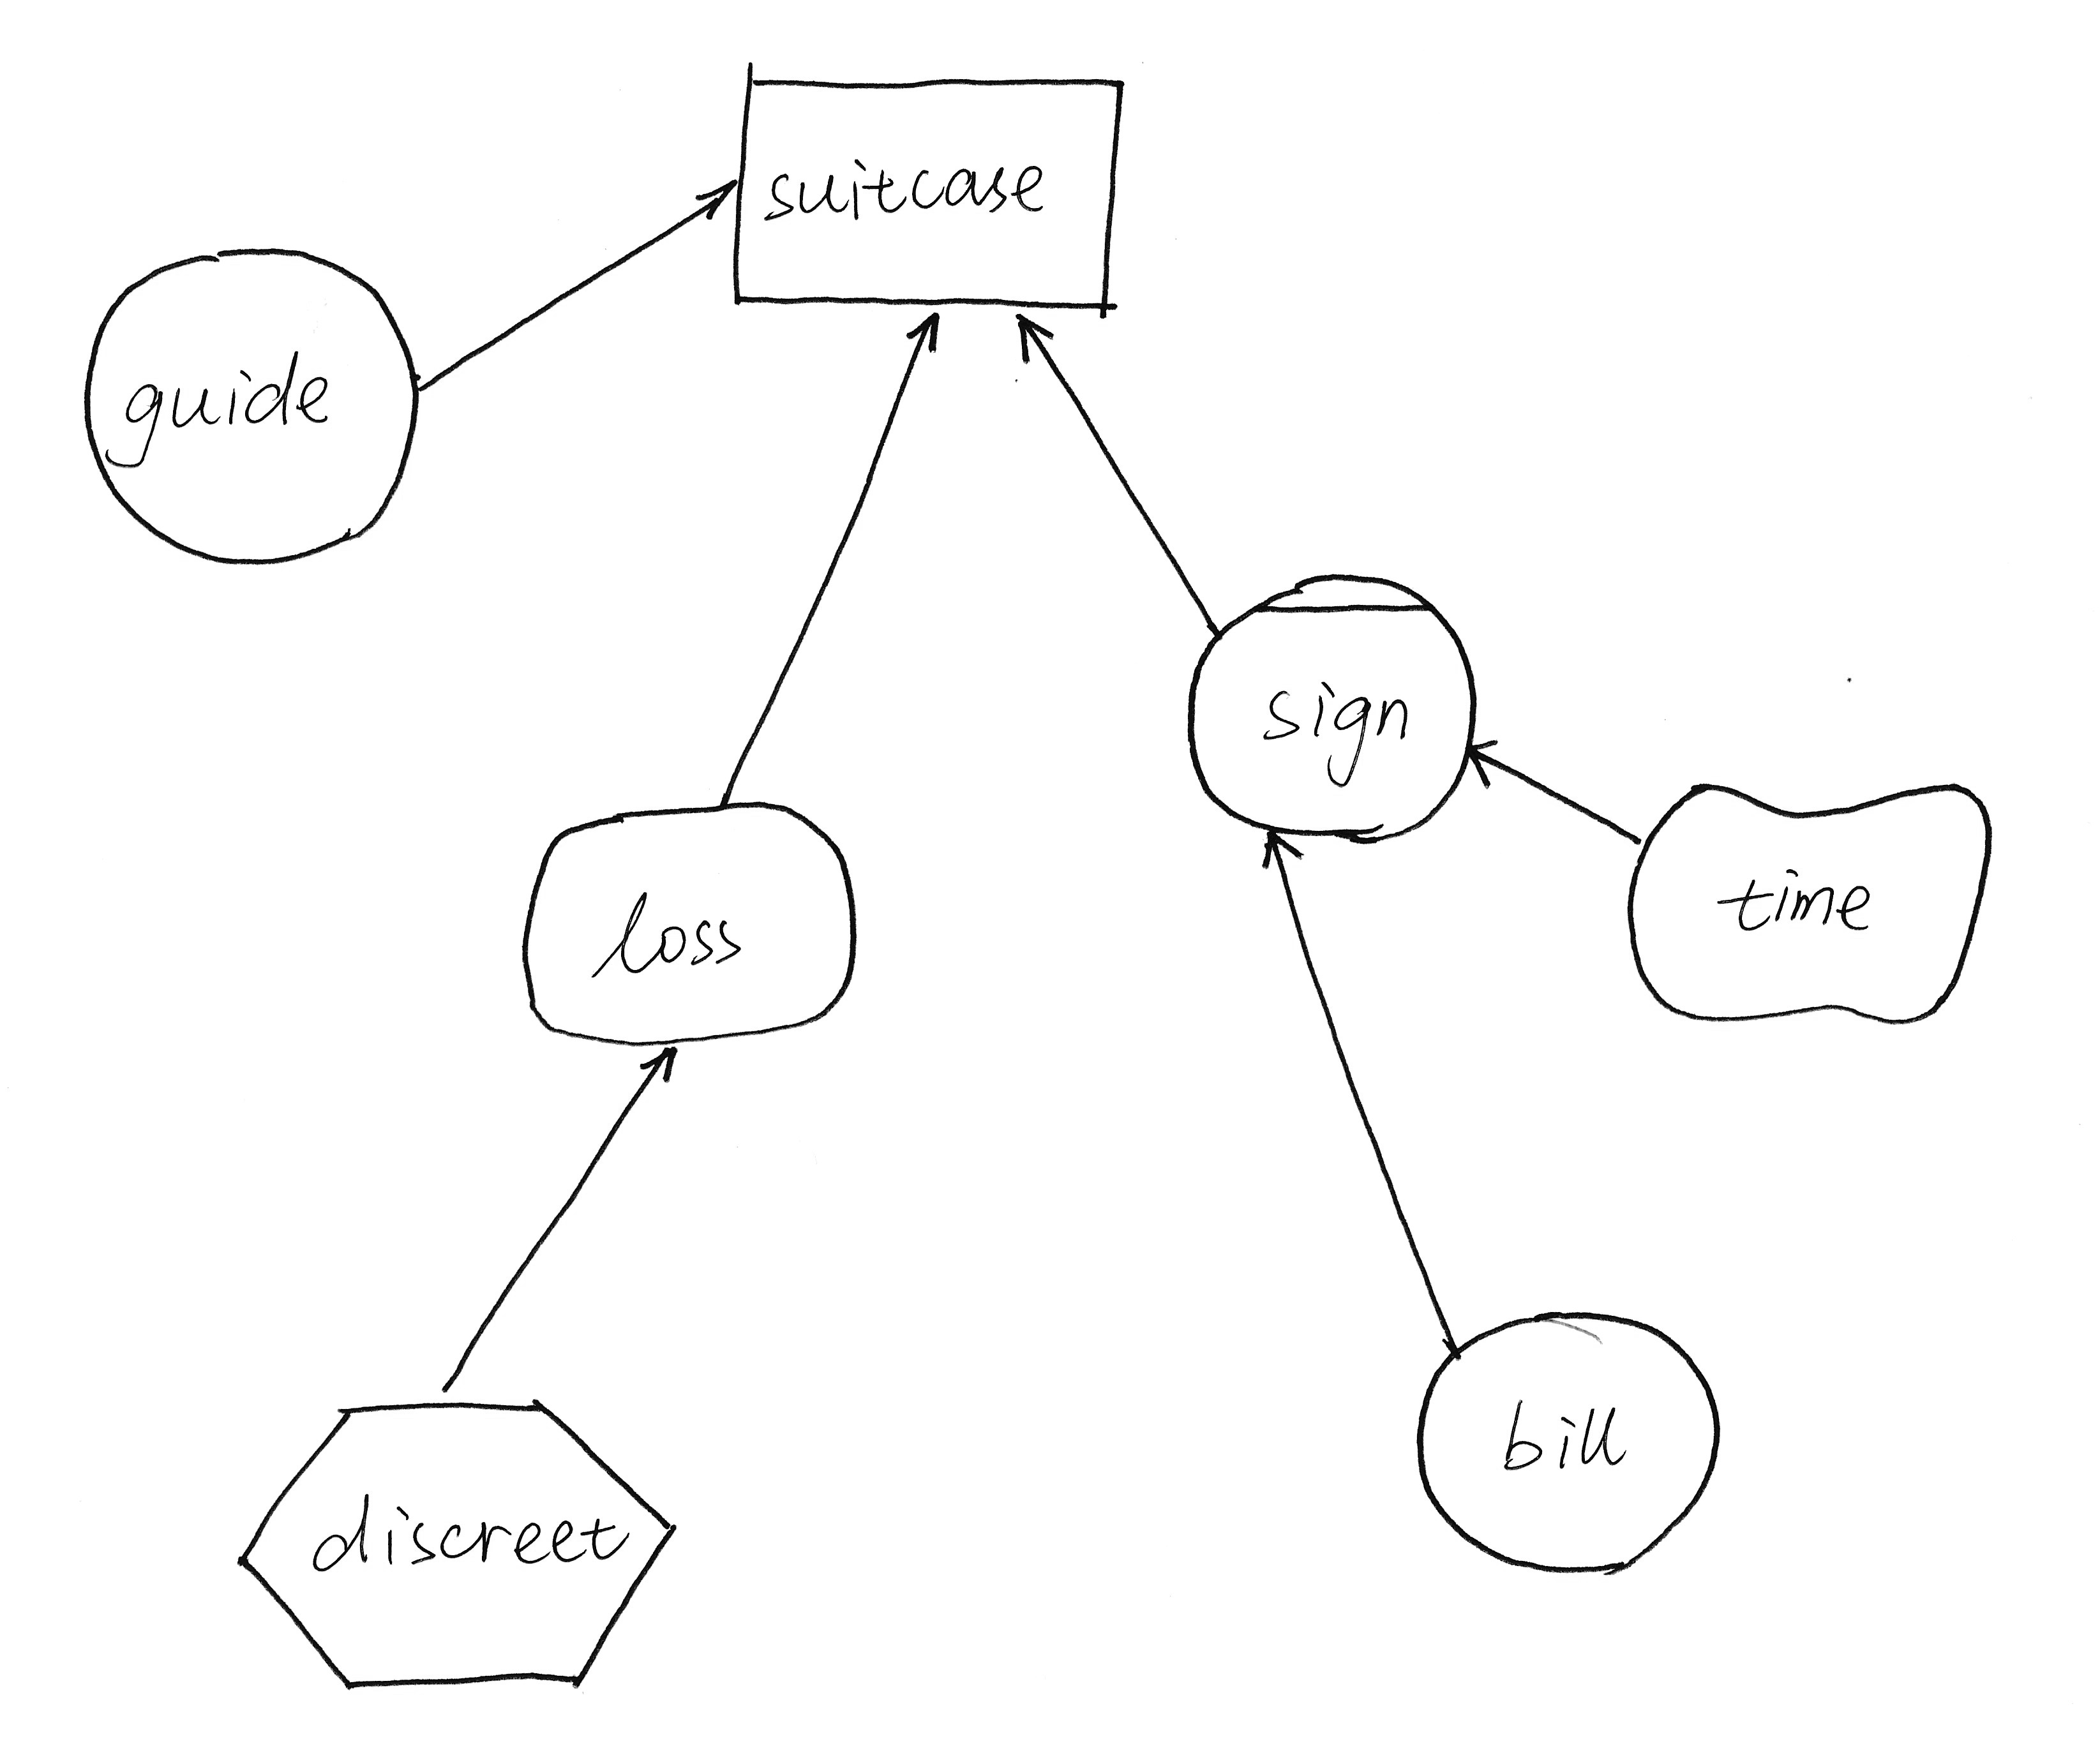actor: (59, 228, 443, 595), (1402, 1292, 1748, 1591)
agent: (1172, 549, 1495, 879)
arrow: (1231, 818, 1319, 893), (999, 302, 1076, 373), (619, 1038, 705, 1101), (1448, 724, 1512, 802), (685, 157, 745, 235), (895, 300, 956, 366)
goal: (495, 780, 876, 1066)
quality: (1608, 759, 2016, 1045)
resource: (715, 42, 1153, 335)
task: (209, 1374, 692, 1704)
